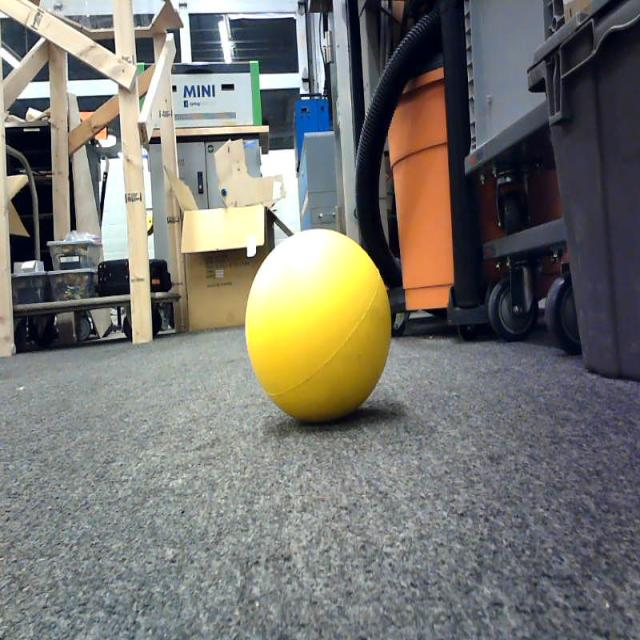Fuel: (245, 229, 392, 424)
